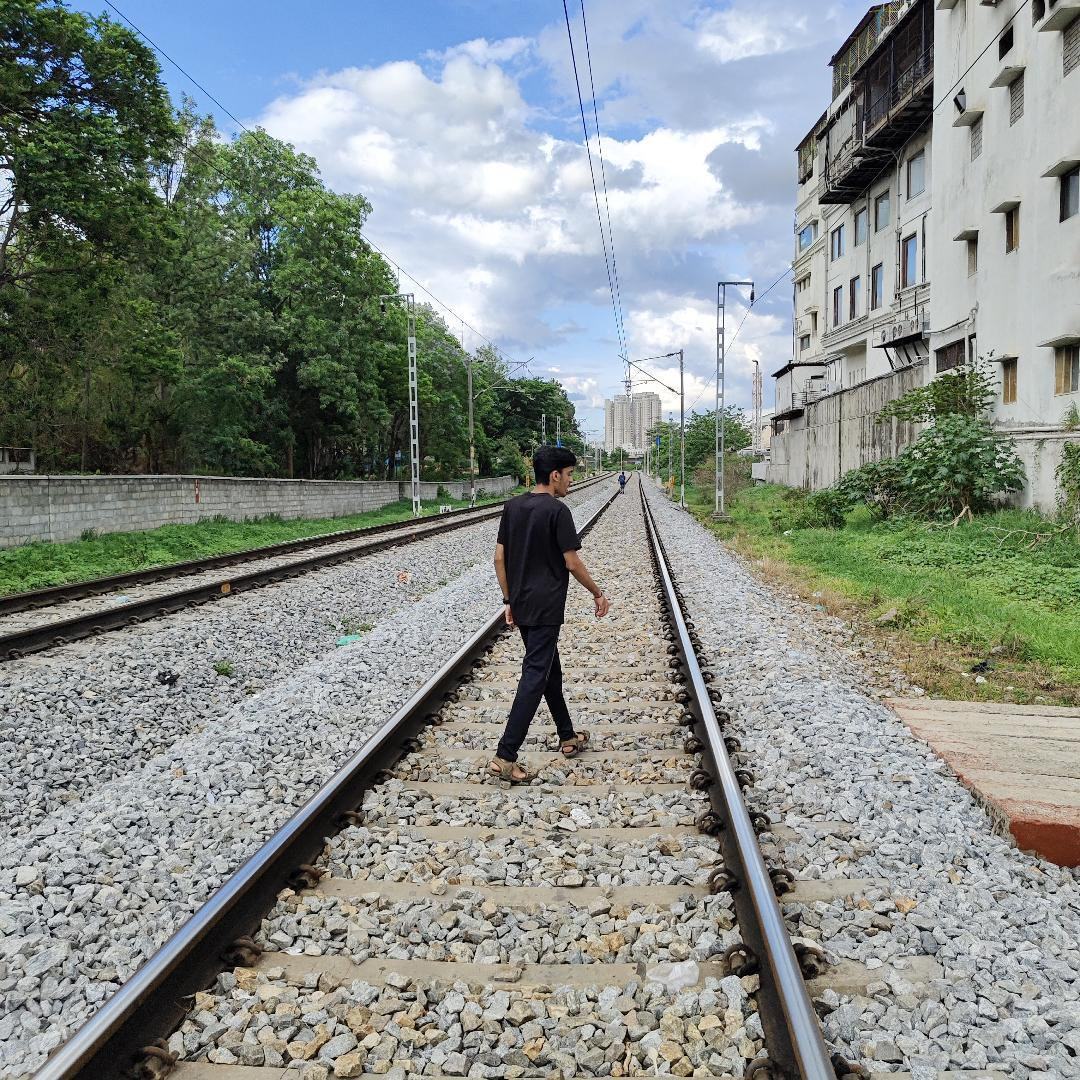standing: (490, 435, 628, 788), (617, 470, 627, 497)
